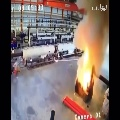fire: (83, 46, 91, 90)
